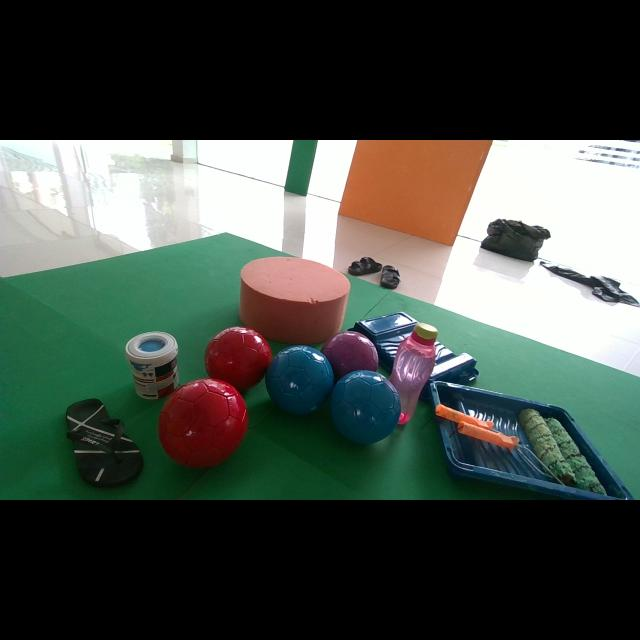B: (330, 370, 401, 444), (265, 345, 334, 414)
P: (321, 331, 378, 381)
R: (158, 378, 248, 468), (205, 326, 272, 391)
